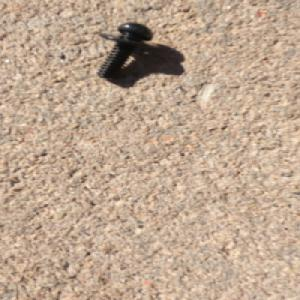BoltWasher: (94, 20, 159, 79)
